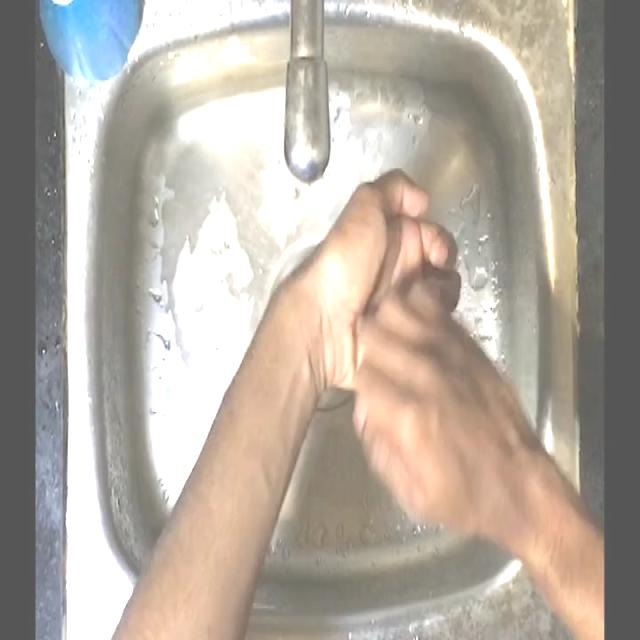step_4: (306, 162, 501, 533)
